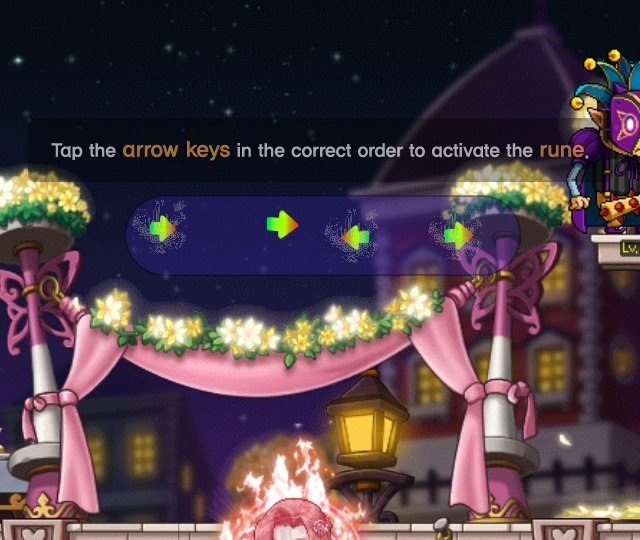rune_box: (115, 188, 531, 289)
